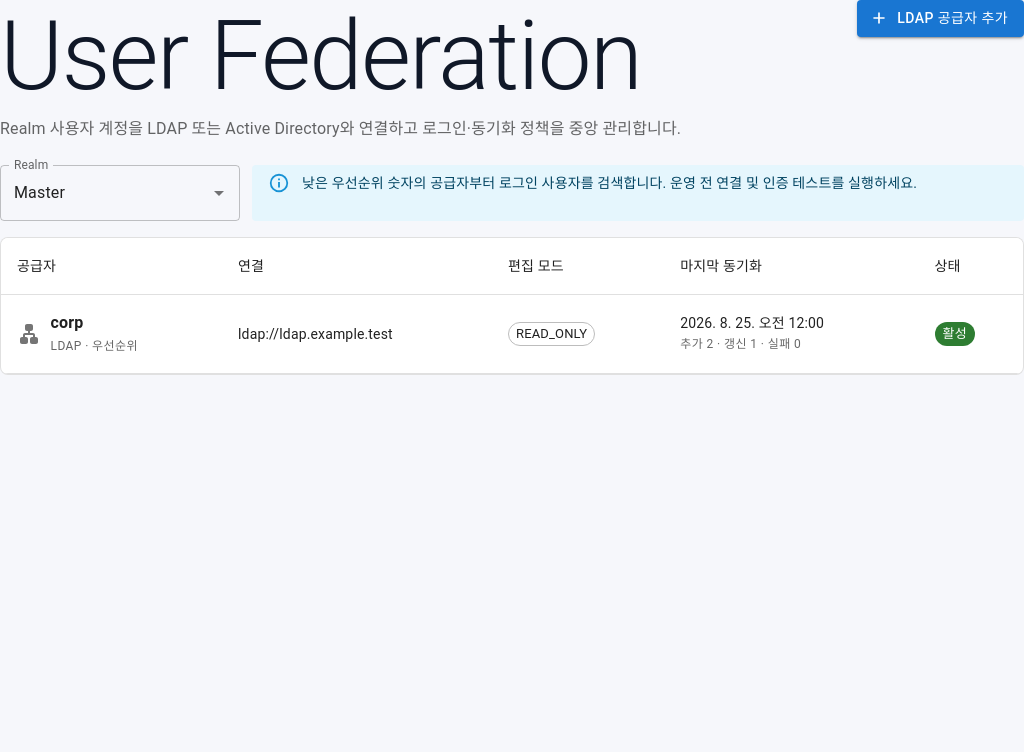
Test: a connection test whose attributes all yield values says so plainly
Click the text "corp" at (67, 322), box [51,313,84,332]
(page scrolled)
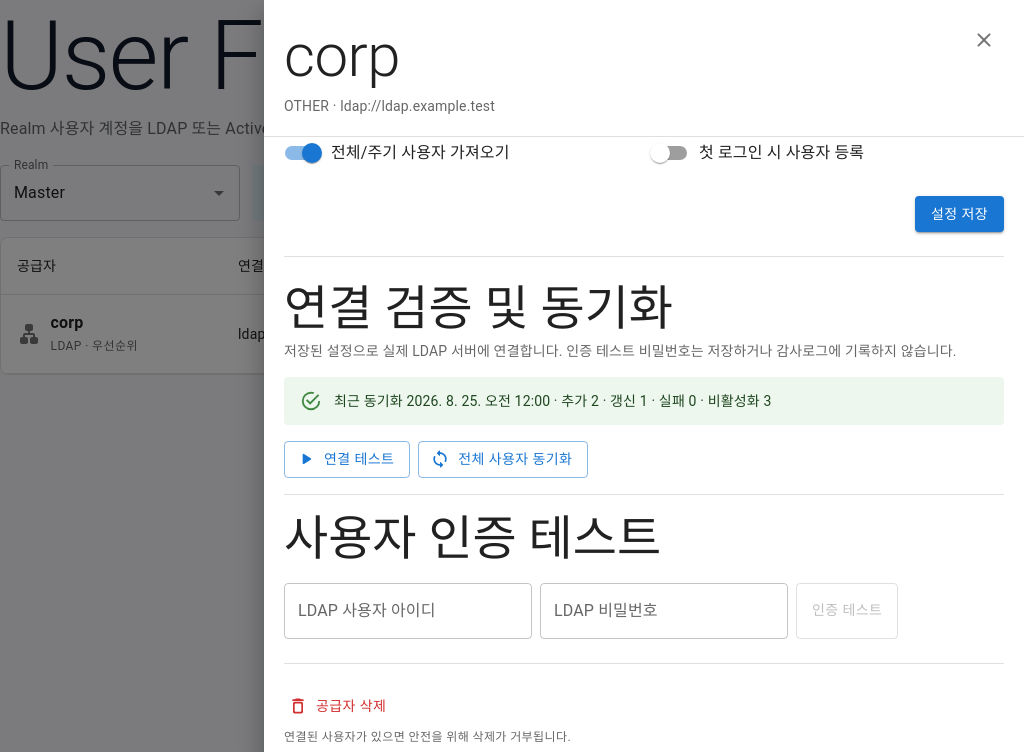
Click the button "연결 테스트" at (347, 459), box [284,441,410,478]
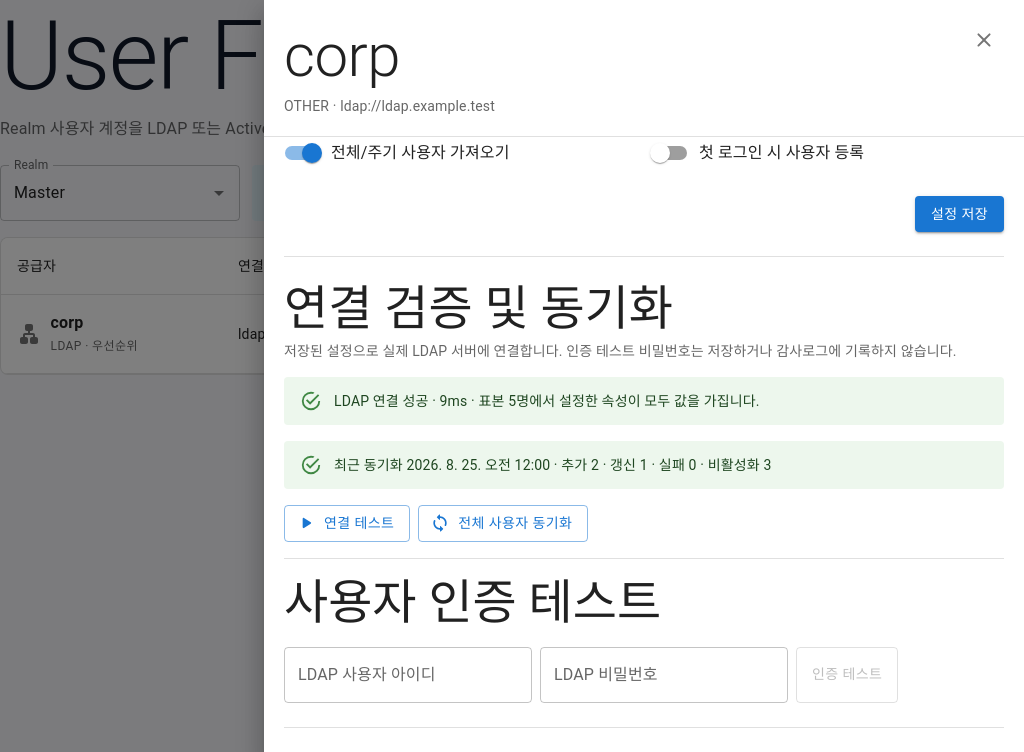
Now the text "LDAP 연결 성공 · 9ms · 표본 5명에서 설정한 속성이 모두 값을 가집니다." is shown, box [334,393,760,409]
